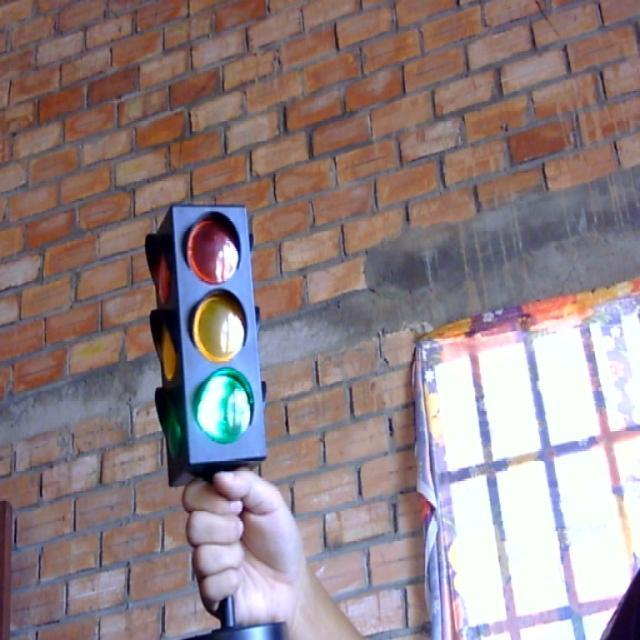green_light: (146, 196, 278, 477)
